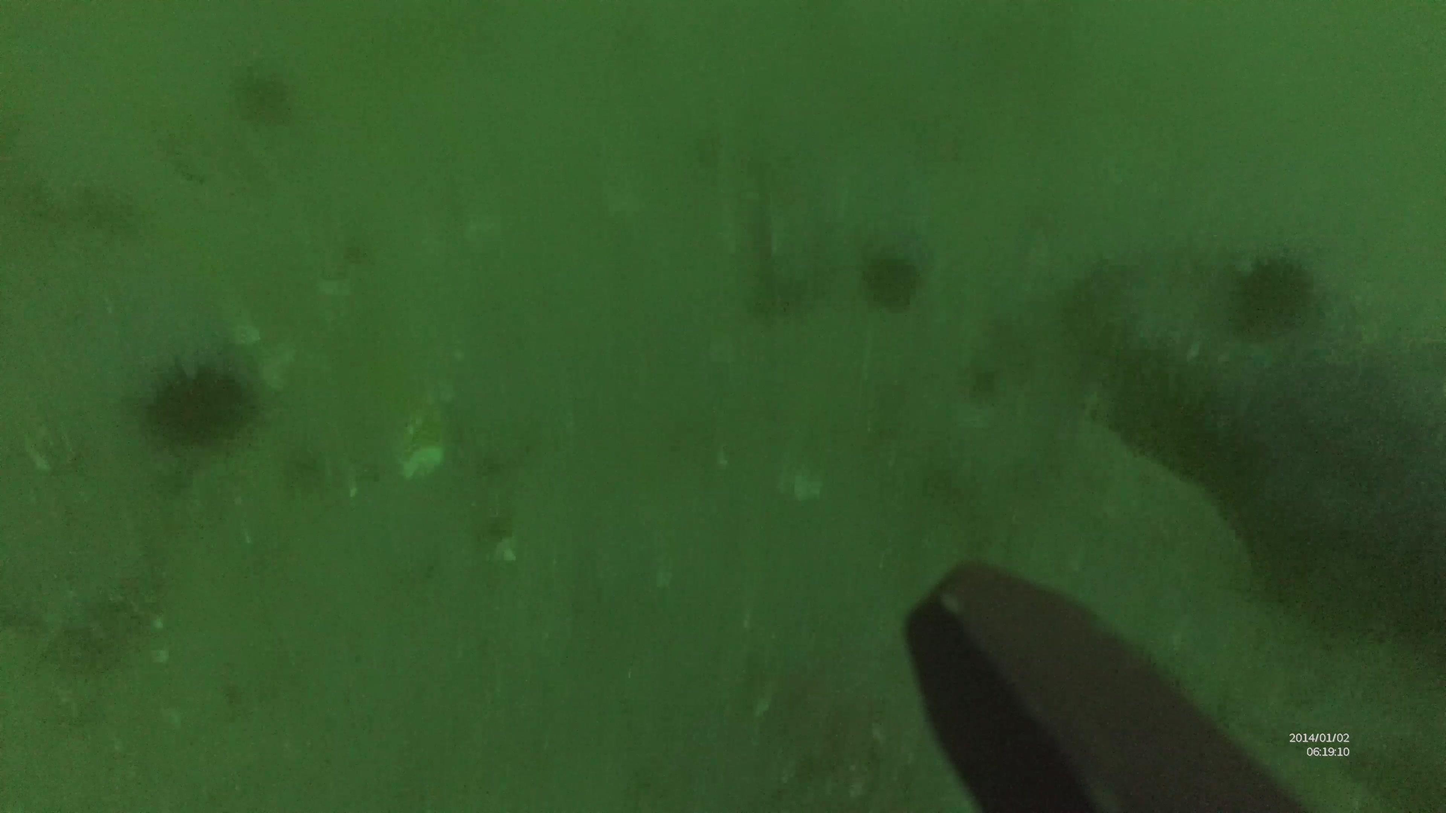starfish: (149, 360, 258, 453), (1232, 247, 1315, 329), (856, 252, 925, 313)
